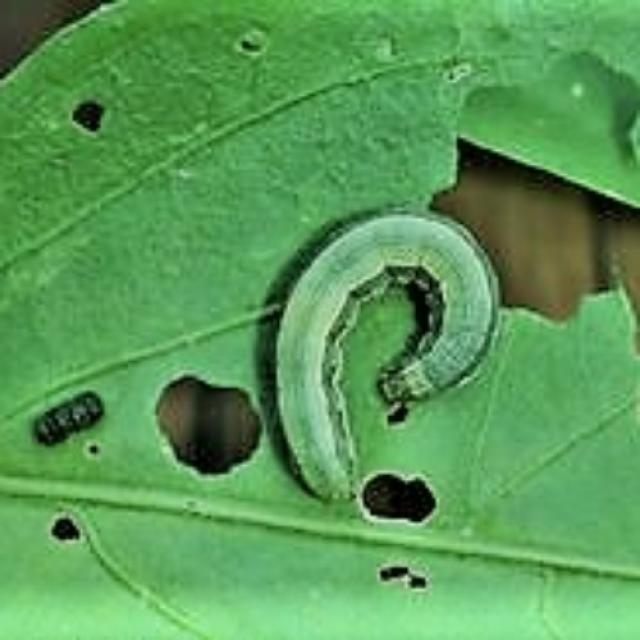armyworm: (266, 207, 503, 510)
